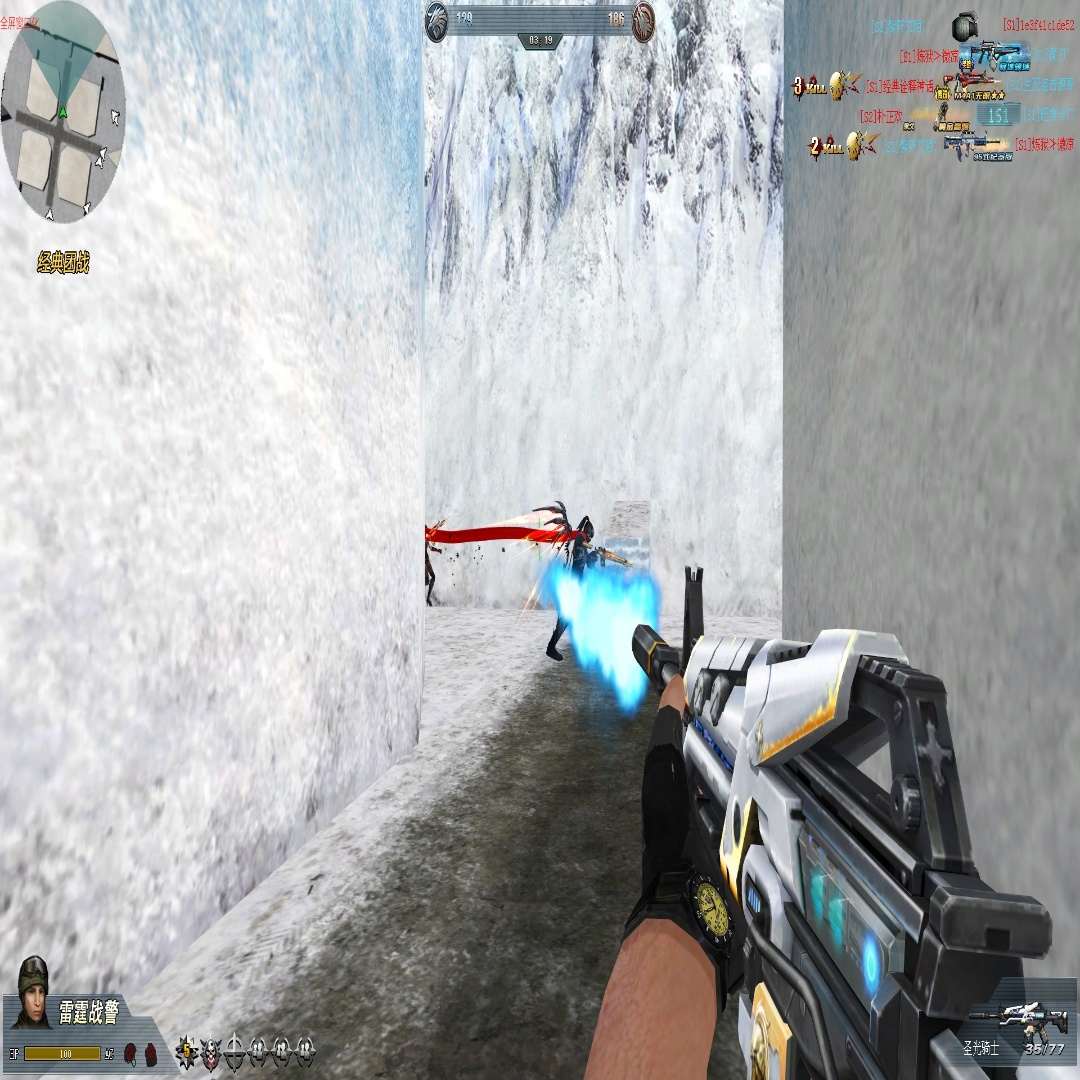head: (583, 521, 594, 544)
t: (559, 504, 595, 668)
